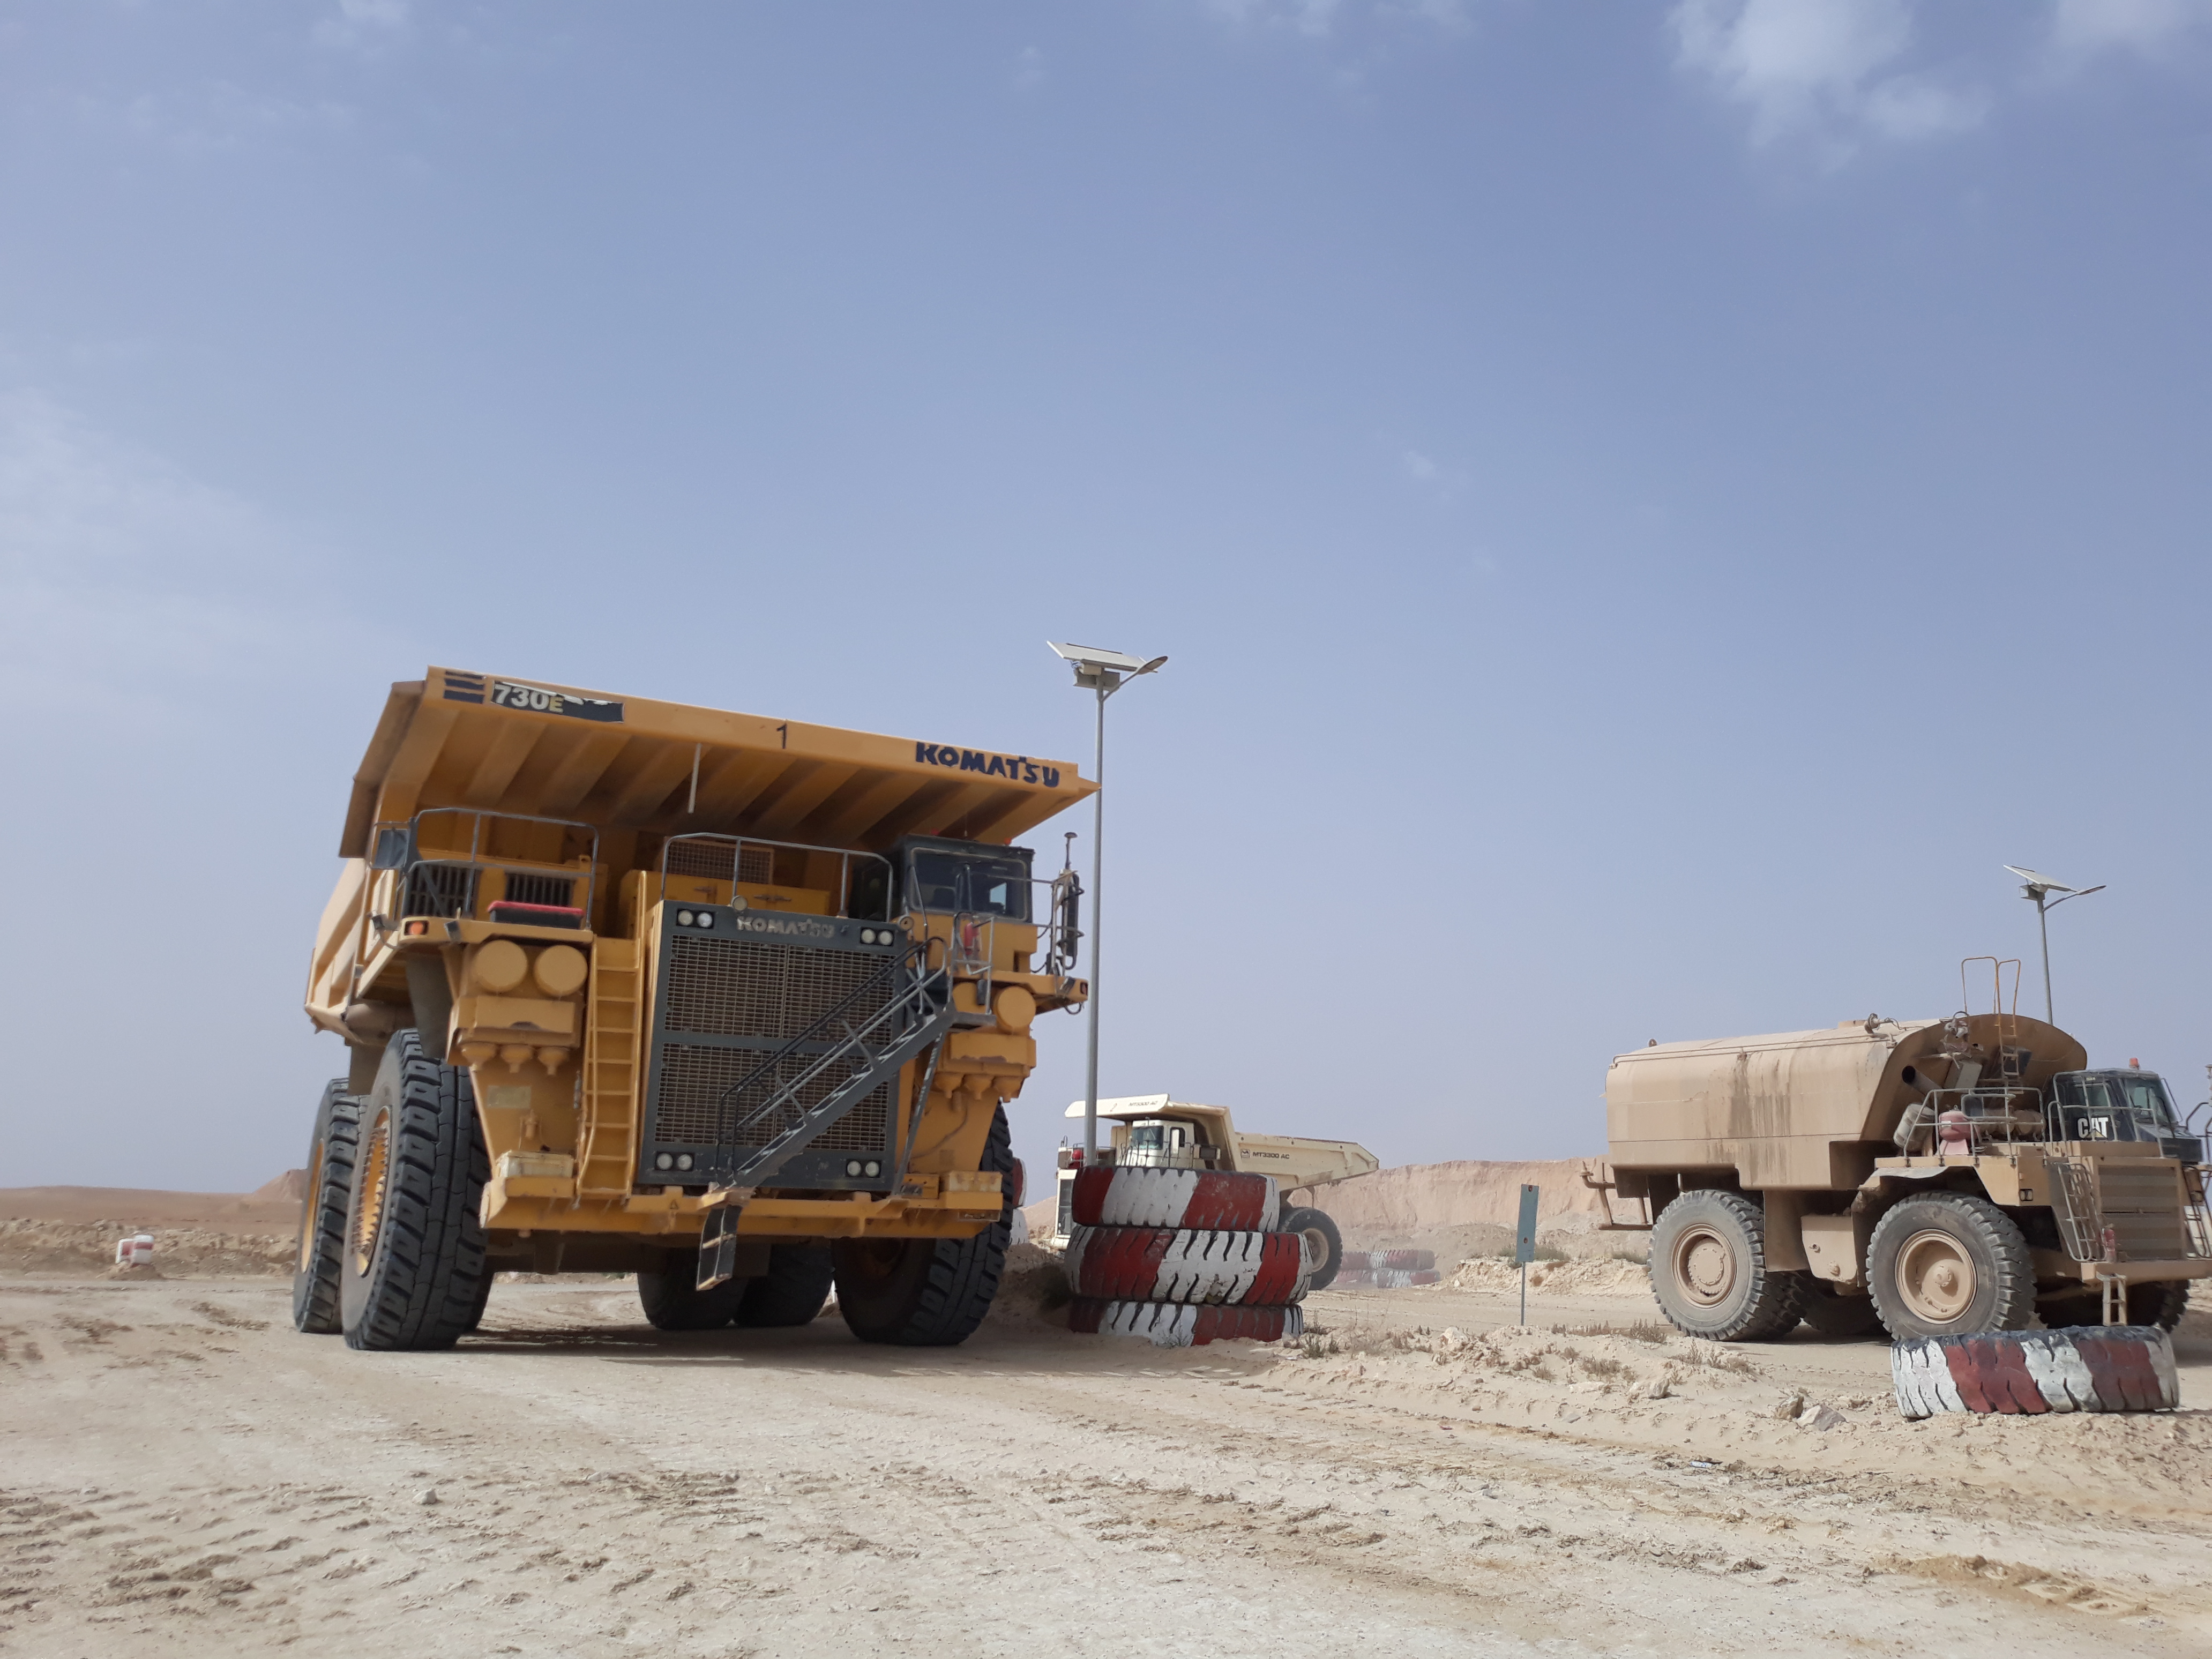camion: (286, 650, 1099, 1385), (1057, 1087, 1376, 1312)
